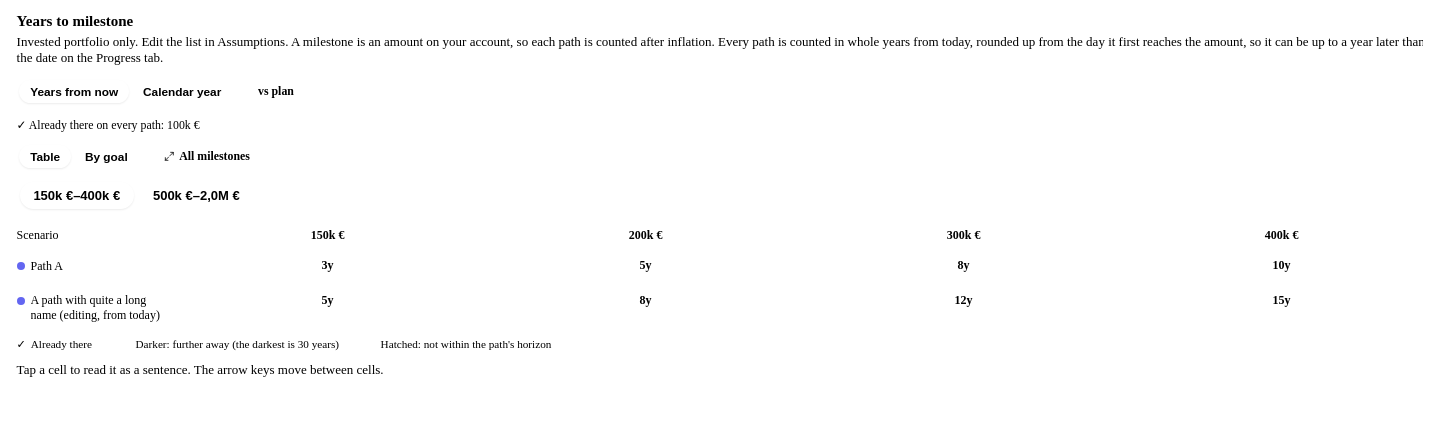
reading by goal › steps to the next and the previous milestone, and stops at the ends
Step 1. Click the radio button labelled "By goal" → coordinates (106, 157), box [74,146,139,168]
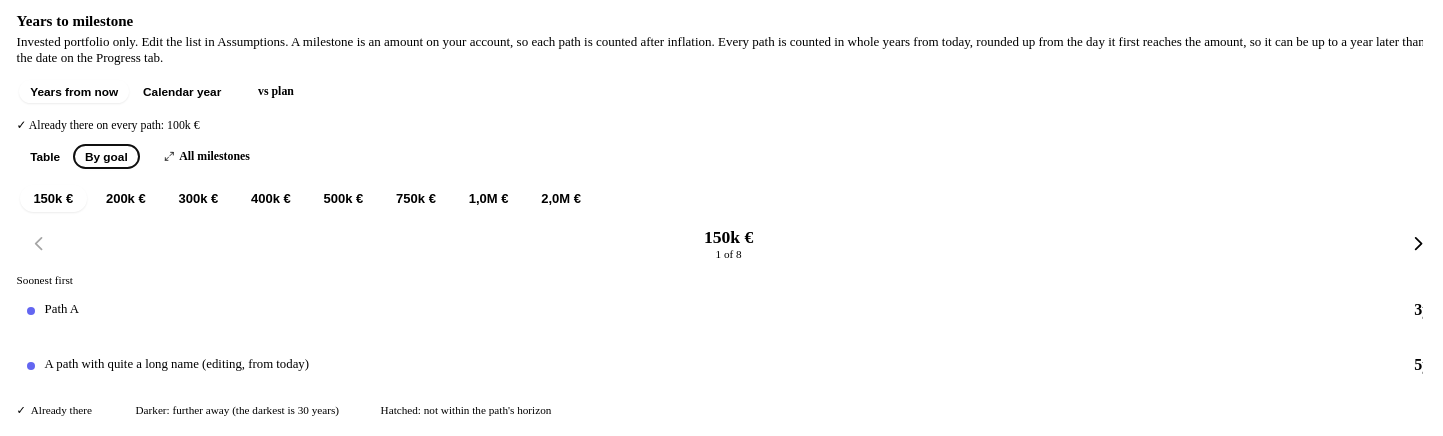
Result: the button named "Previous milestone" is disabled at [17,222,61,266]
Step 2. Click the button named "Next milestone" → coordinates (1414, 244), box [1397,222,1431,266]
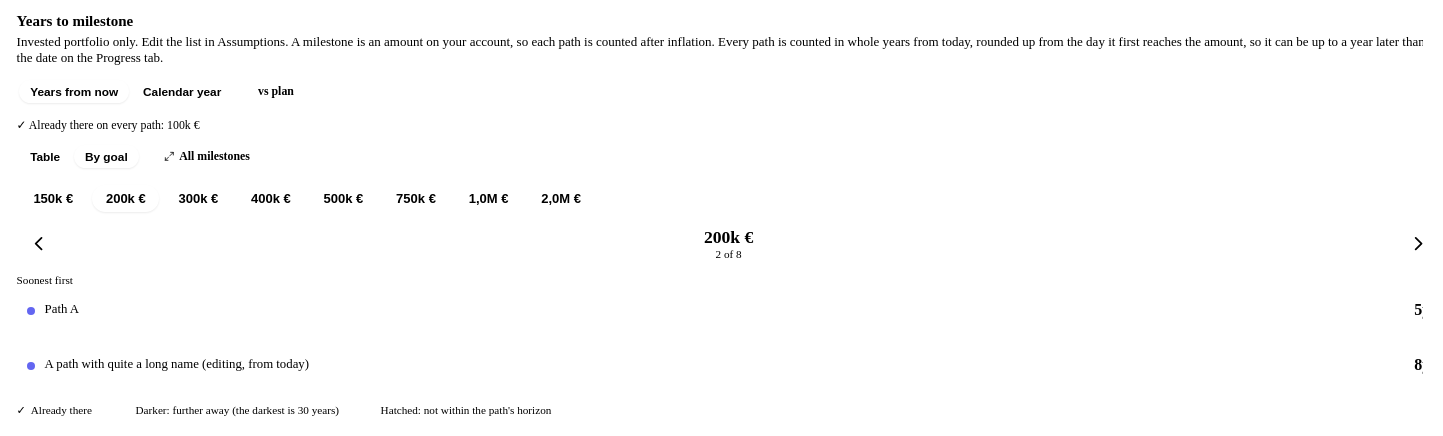
Expected: the radio button labelled "200k €" is checked, [92,185,159,212]
Result: the text "2 of 8" is shown at [716,248,742,260]
Step 3. Click the radio button labelled "2,0M €" → coordinates (561, 199), box [528,185,594,212]
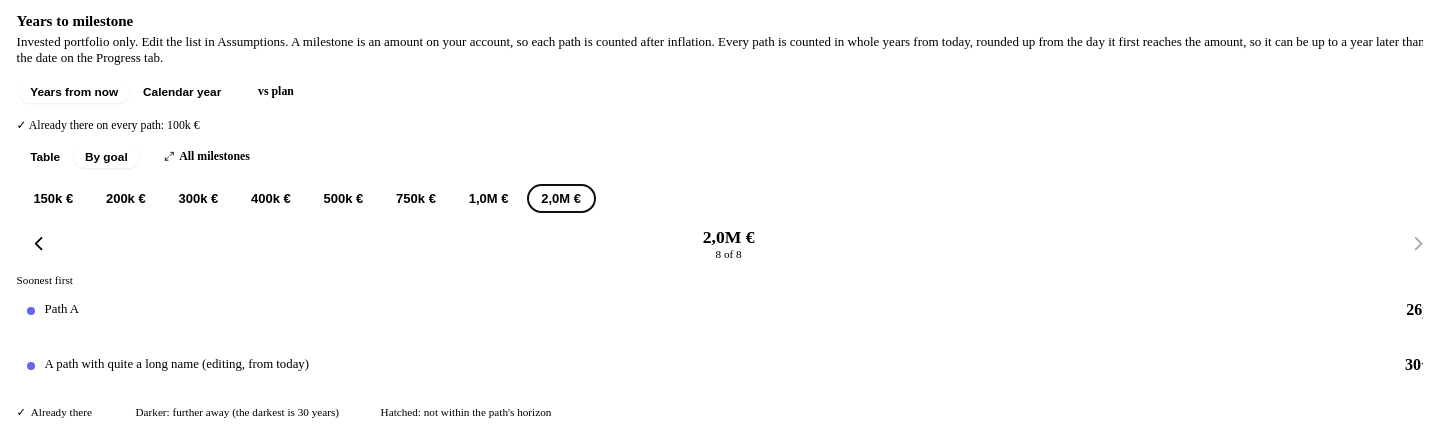
Result: the button named "Next milestone" is disabled at [1397,222,1423,266]
Step 4. Click the button named "Previous milestone" → coordinates (39, 244), box [17,222,61,266]
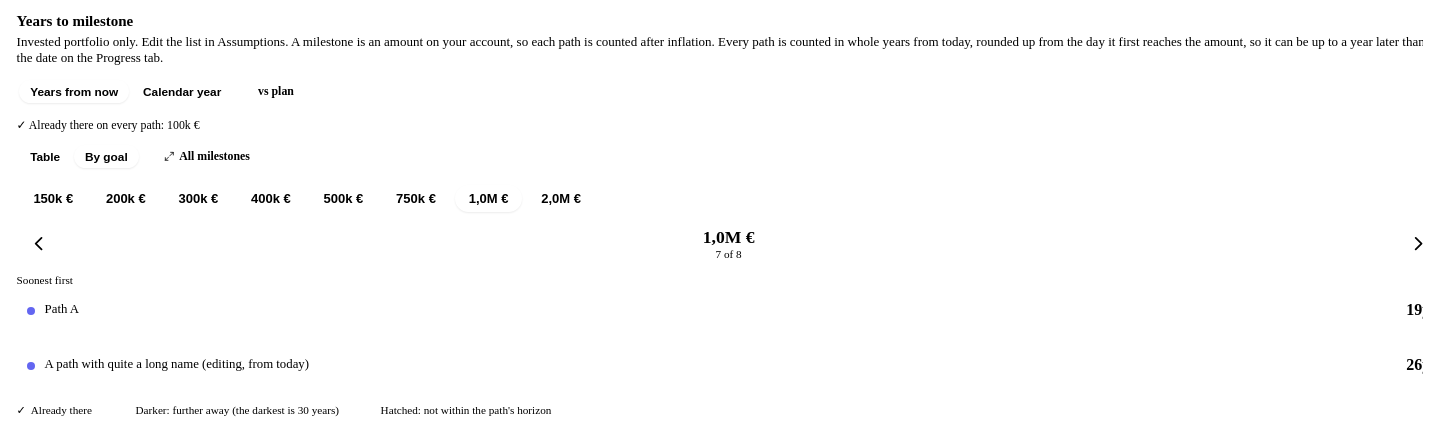
Result: the text "7 of 8" is shown at [716,248,742,260]
